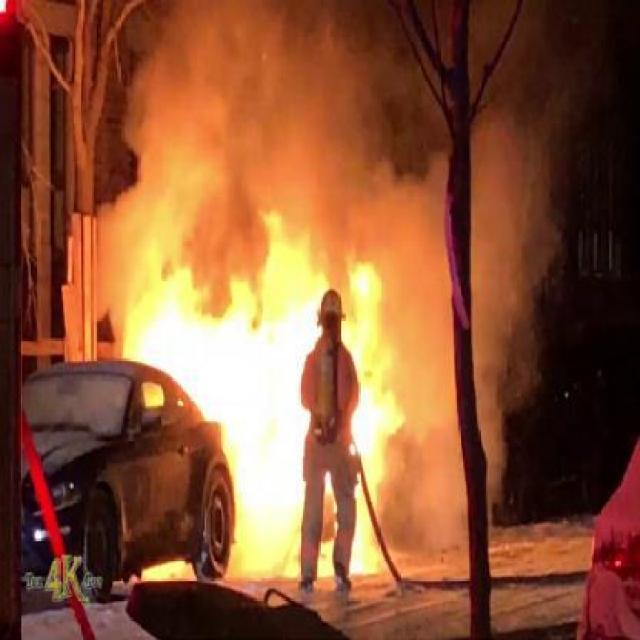Fire: (126, 212, 322, 580), (339, 258, 393, 580)
